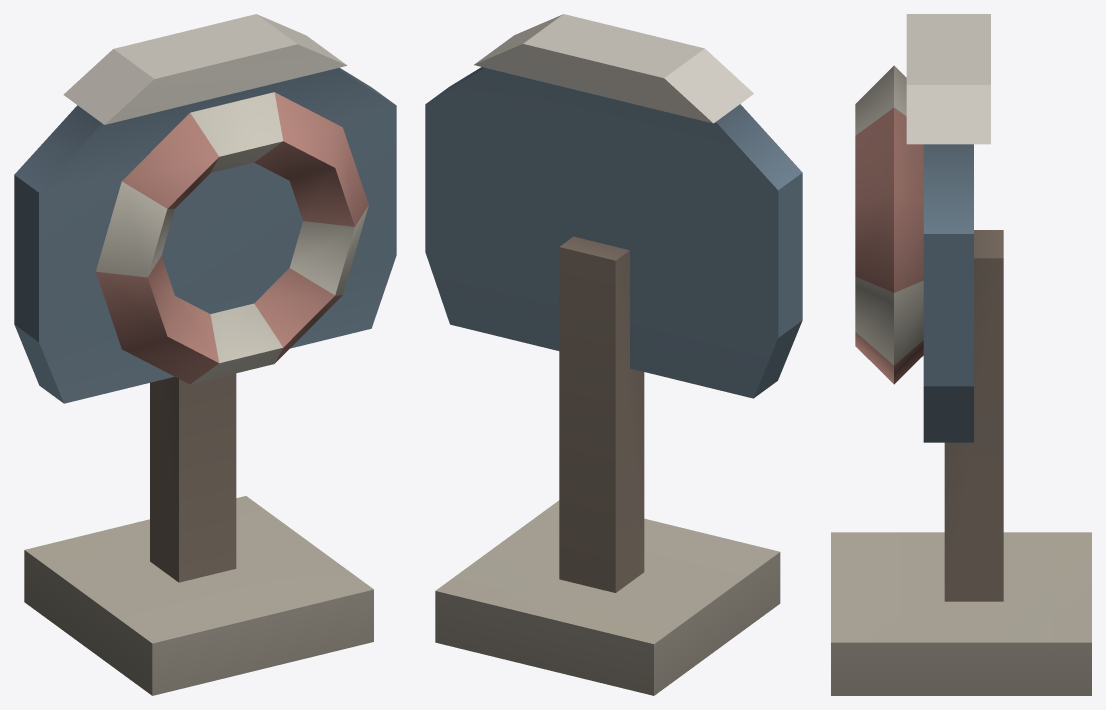
The model's file is buoy.lod1.glb.
The picture shows the model from 3 angles, left to right: view 1: azimuth 30°, elevation 25°; view 2: azimuth 150°, elevation 25°; view 3: azimuth 270°, elevation 25°; orthographic projection. The views are drawn at different scales.
Bounding box in the file's own units: 1 × 1.55 × 0.62.
